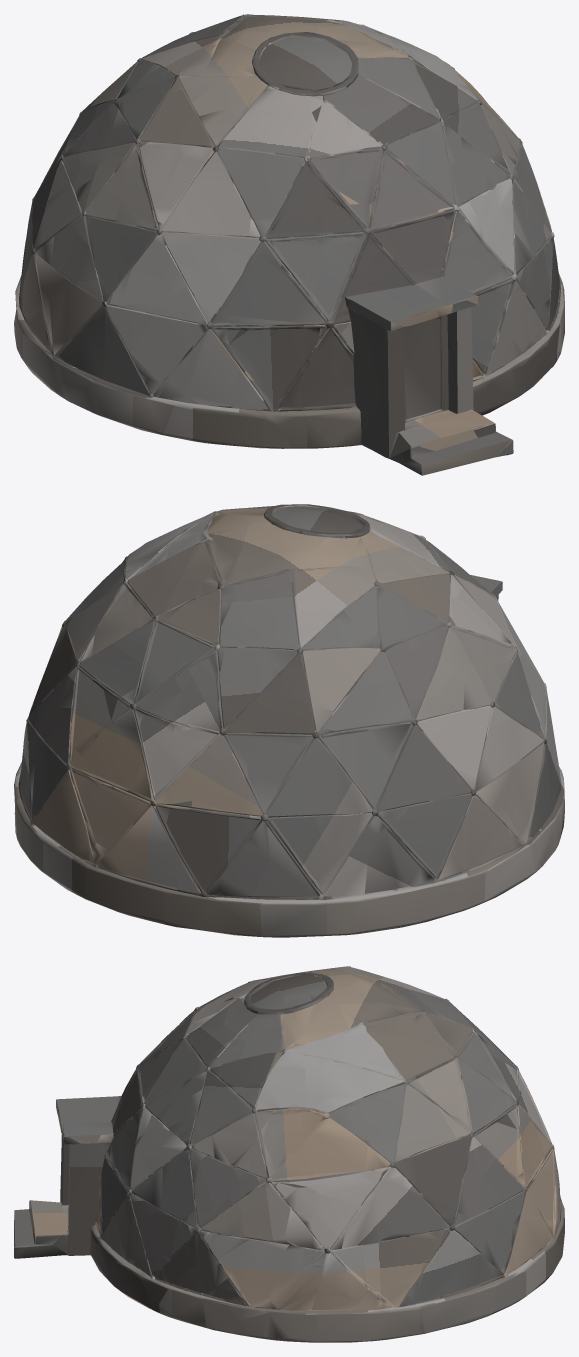
Rendered from dome.glb.
The picture shows the model from 3 angles, top to bottom: view 1: azimuth 30°, elevation 25°; view 2: azimuth 150°, elevation 25°; view 3: azimuth 270°, elevation 25°; orthographic projection. The views are drawn at different scales.
Visible parts, largest first — view 1: LO; view 2: LO; view 3: LO.
Part boxes in pixels (bbox=[...]): LO: bbox=[14, 14, 564, 475]; LO: bbox=[14, 504, 564, 937]; LO: bbox=[14, 966, 564, 1342].
Bounding box in the file's own units: 11.23 × 6.69 × 12.99.
1 material, 1 textured.
